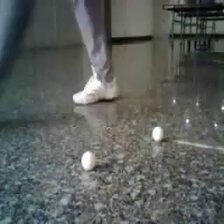w: (80, 151, 98, 169), (151, 126, 166, 143)
